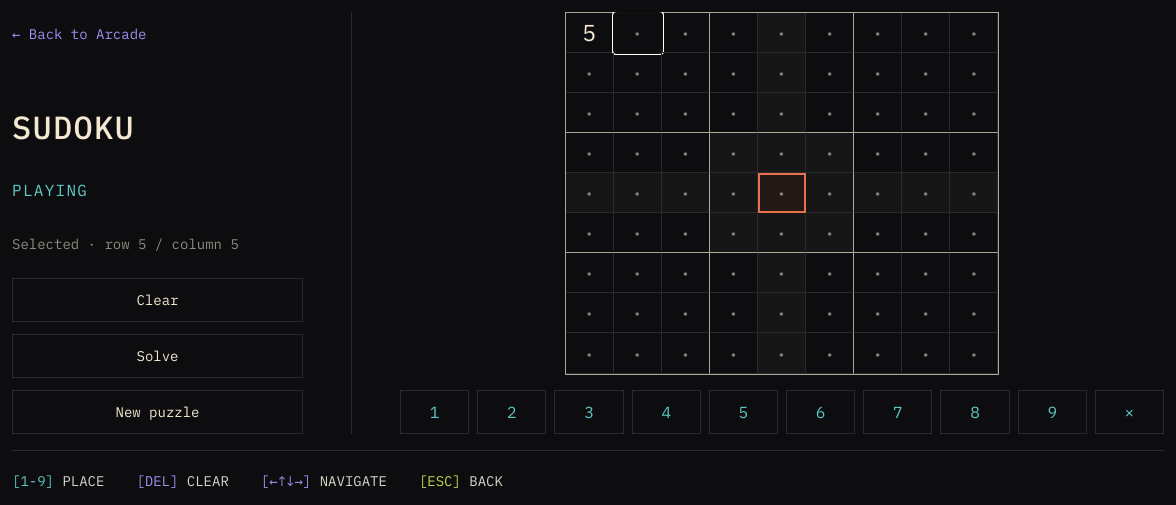
Sudoku arrow navigation moves actual gridcell focus
Click the cell named "Row 1, column 2, empty": (638, 33) [614,13,662,53]
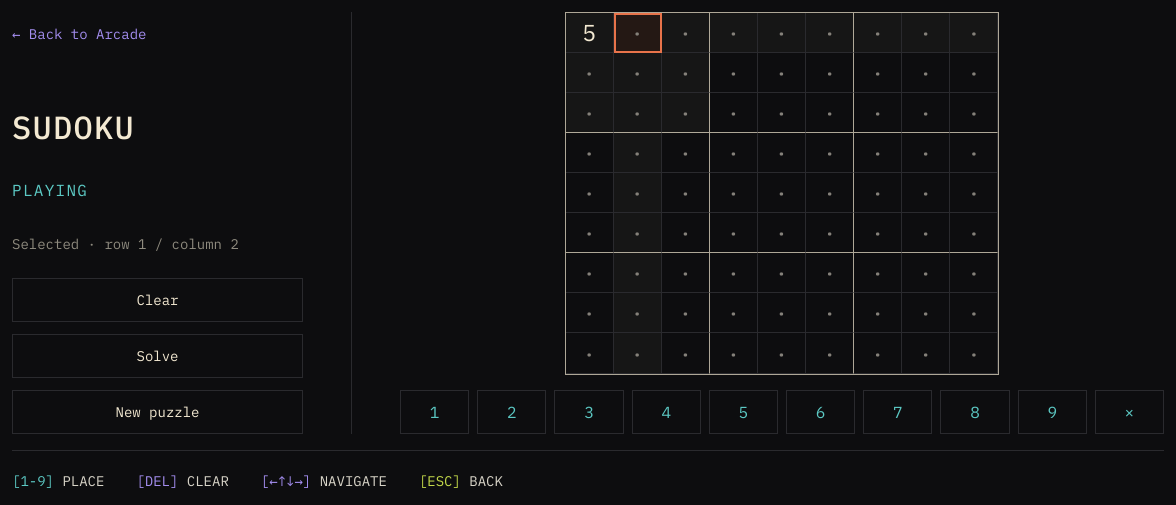
Press ArrowRight in the cell named "Row 1, column 2, empty", box [614,13,662,53]
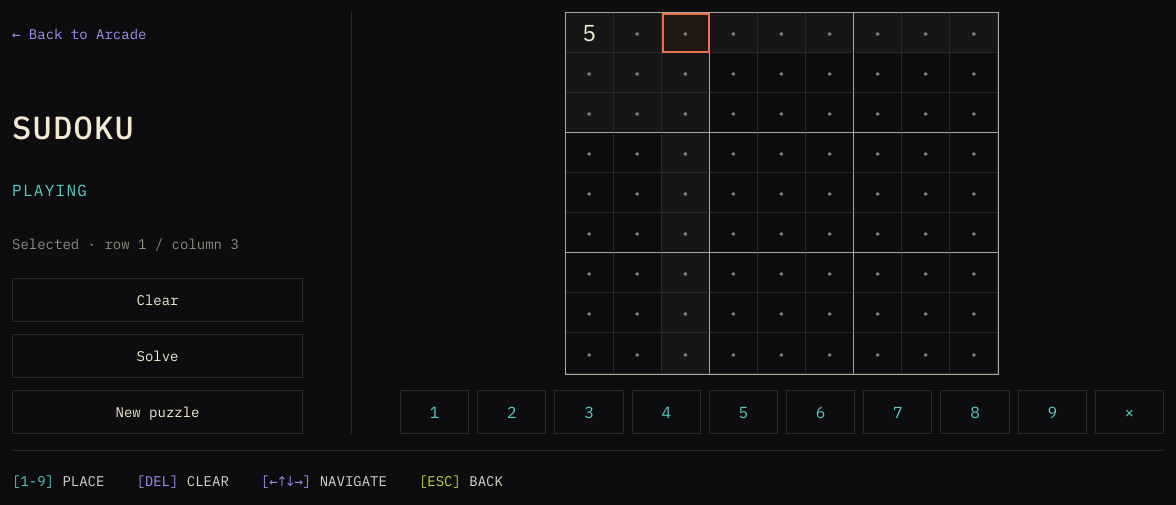
Now the text "Selected · row 1 / column 3" is shown, box [12,235,239,253]
